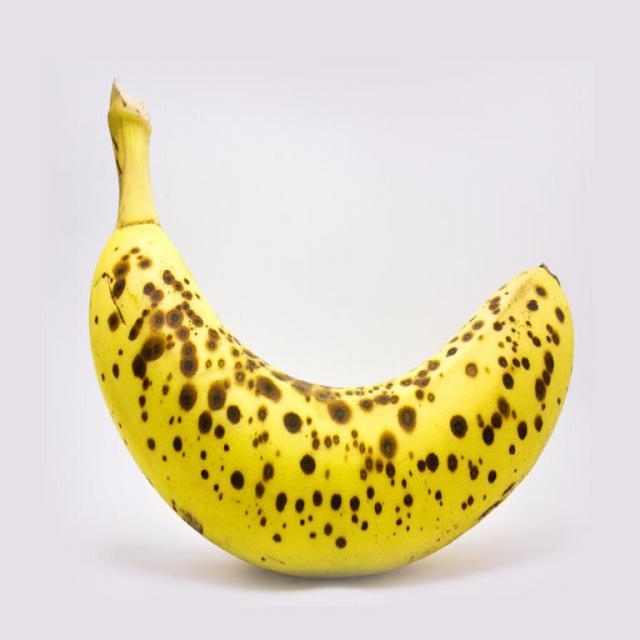Banana: (81, 70, 575, 584)
